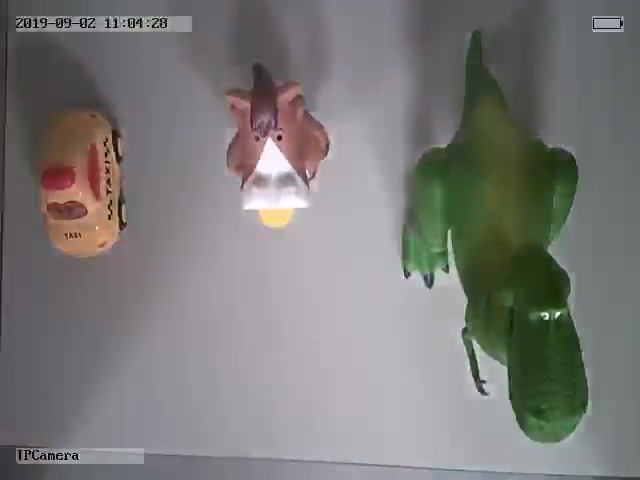car: (35, 108, 130, 258)
horse: (221, 63, 333, 229)
rex: (402, 42, 591, 445)
